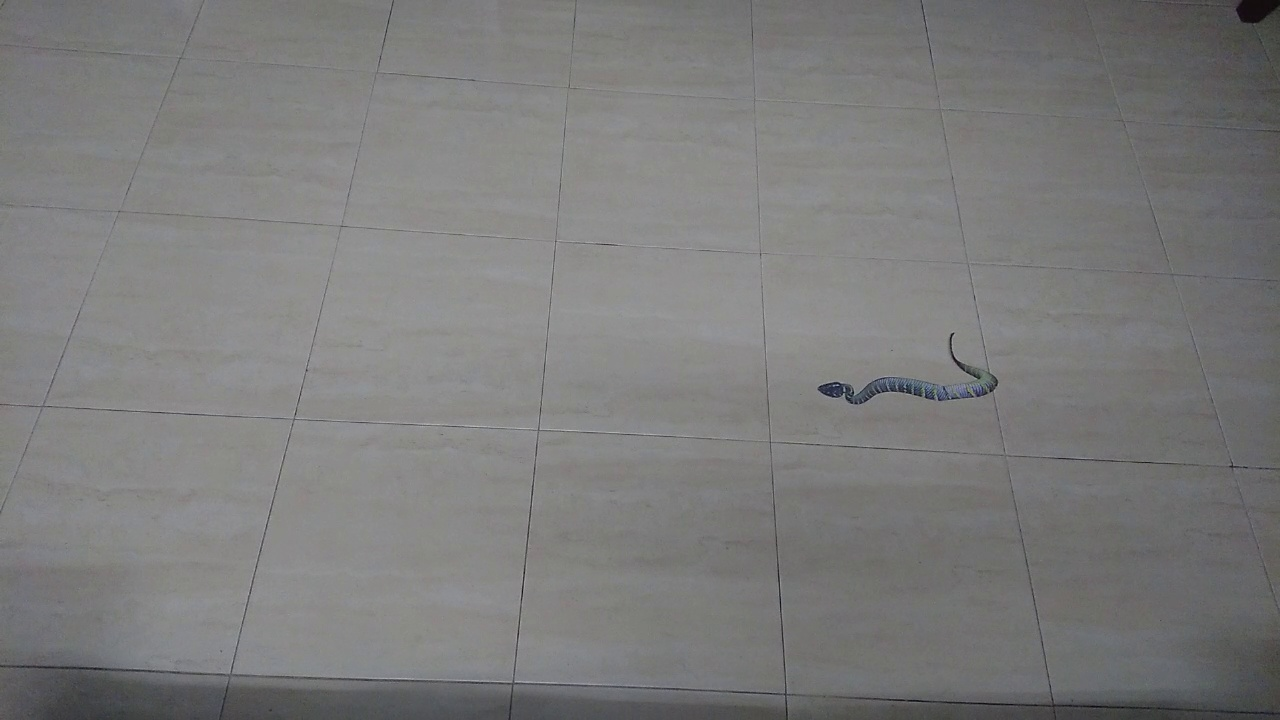snake: (798, 314, 1016, 420)
